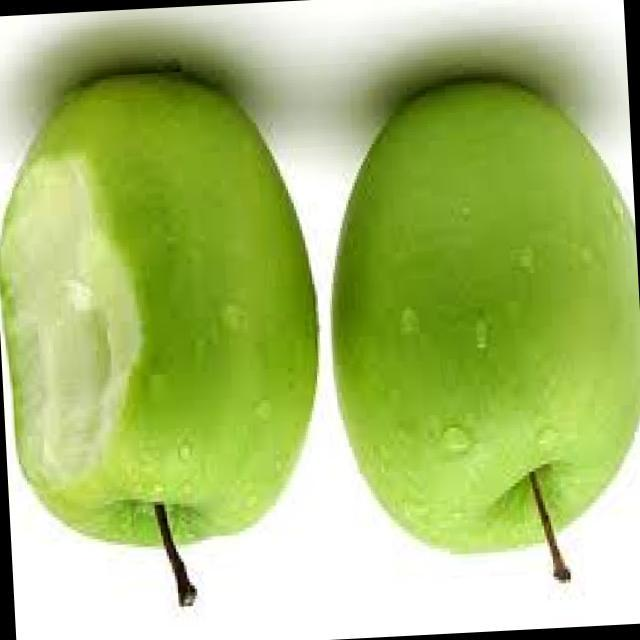Apple: (0, 54, 344, 632), (314, 42, 640, 612)
